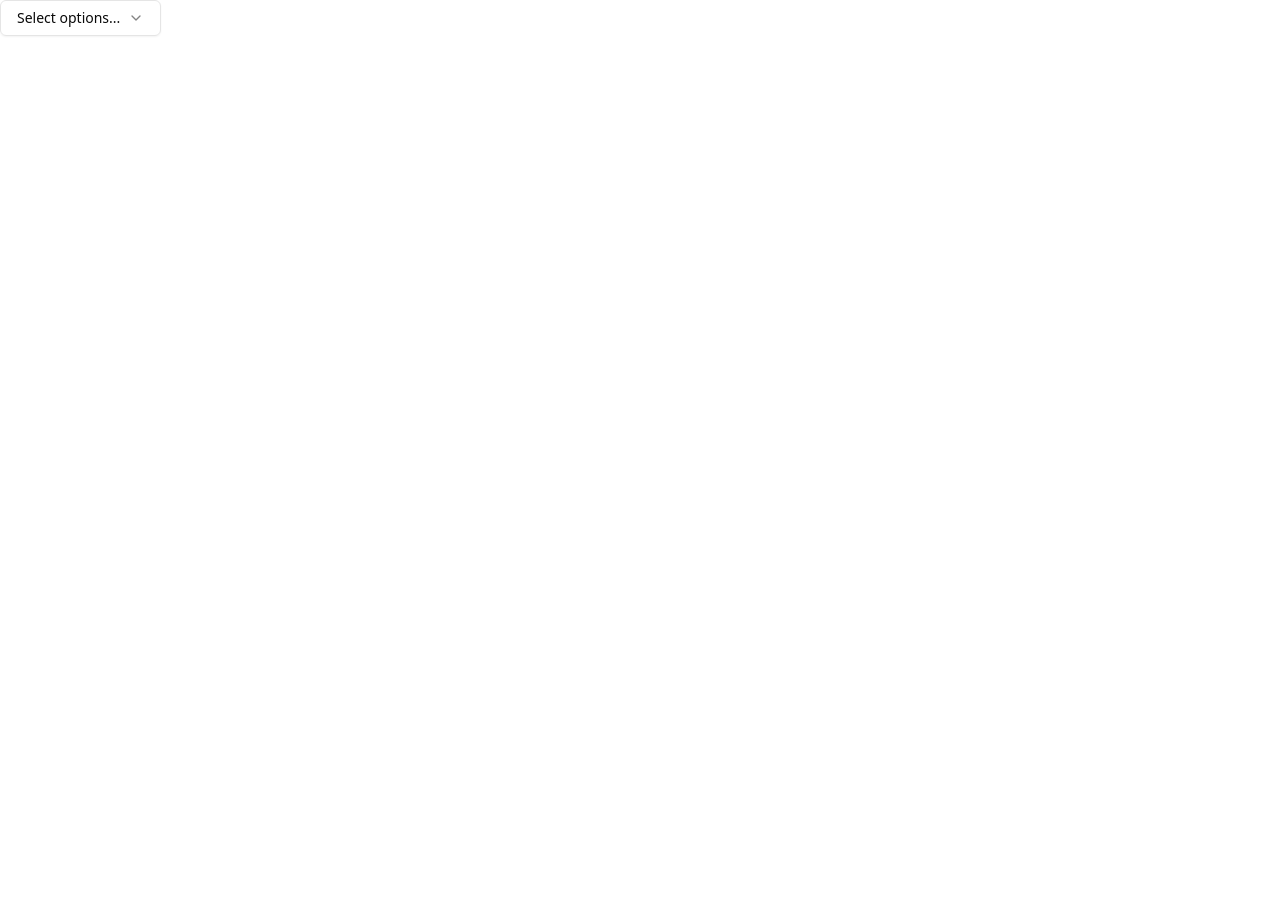
it: MultiSelect › opens dropdown when clicked
The width and height of the screenshot is (1280, 900).
What coordinates should you click on to do the following:
click the dropdown
I would click on:
 (81, 18)
Its box is top-left (0, 0), bottom-right (161, 36).
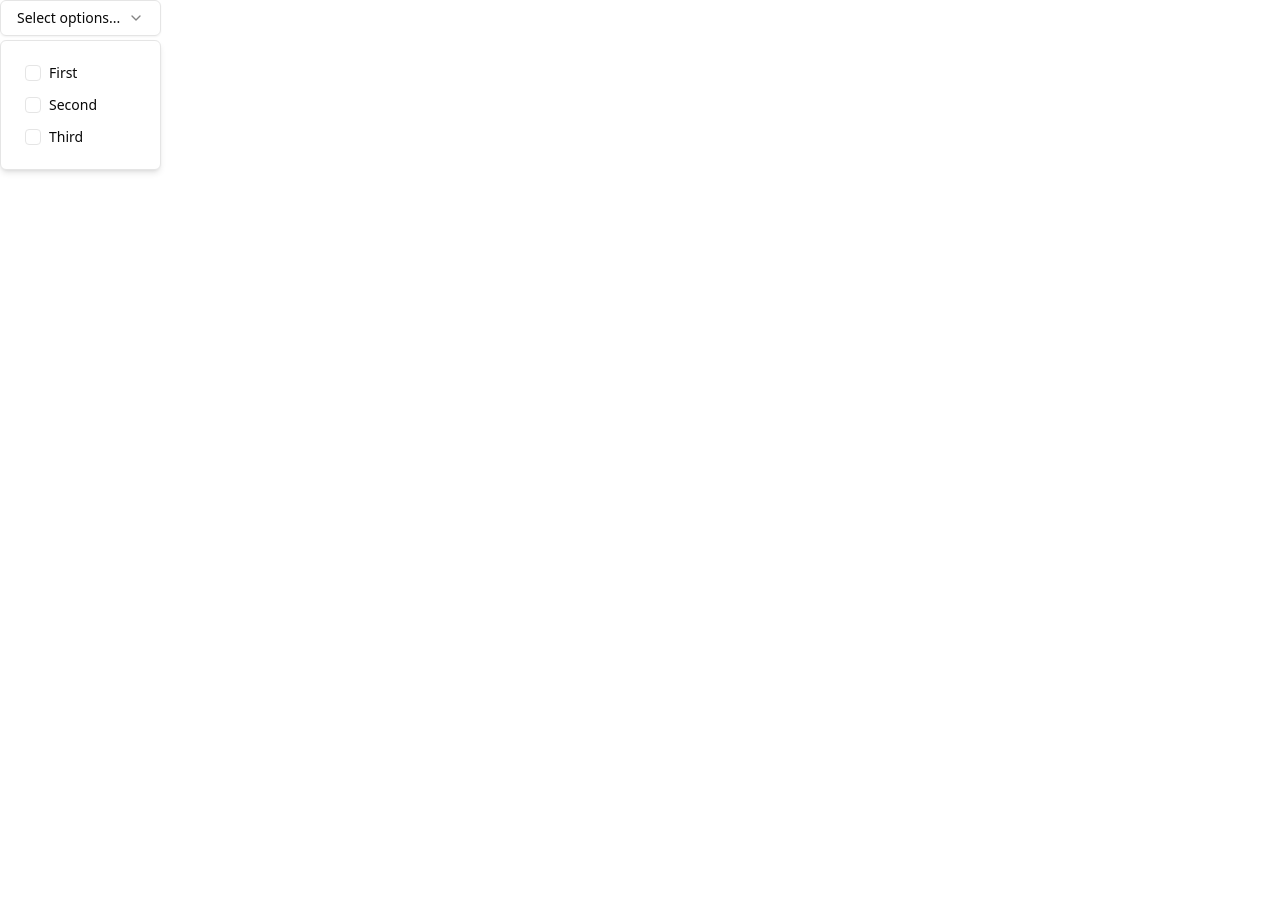
Check: the text "First" is shown, box top-left (49, 63), bottom-right (77, 82)
Check: the text "Second" is shown, box top-left (49, 95), bottom-right (97, 114)
Check: the text "Third" is shown, box top-left (49, 127), bottom-right (83, 146)
